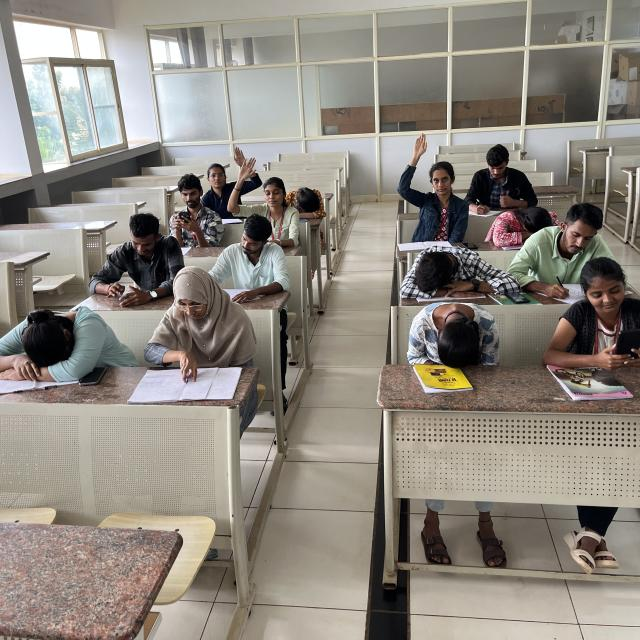Hand Rising: (399, 128, 466, 230), (225, 157, 297, 244), (203, 146, 257, 215)
Reading: (215, 213, 290, 301)
Sleeping: (0, 302, 105, 374), (404, 296, 502, 368), (398, 243, 508, 300), (491, 202, 559, 246), (285, 184, 327, 219)
Using Phone: (565, 258, 640, 374), (89, 212, 182, 304), (166, 175, 218, 247)
Writing: (141, 268, 255, 396), (528, 205, 634, 304), (461, 141, 533, 217)
